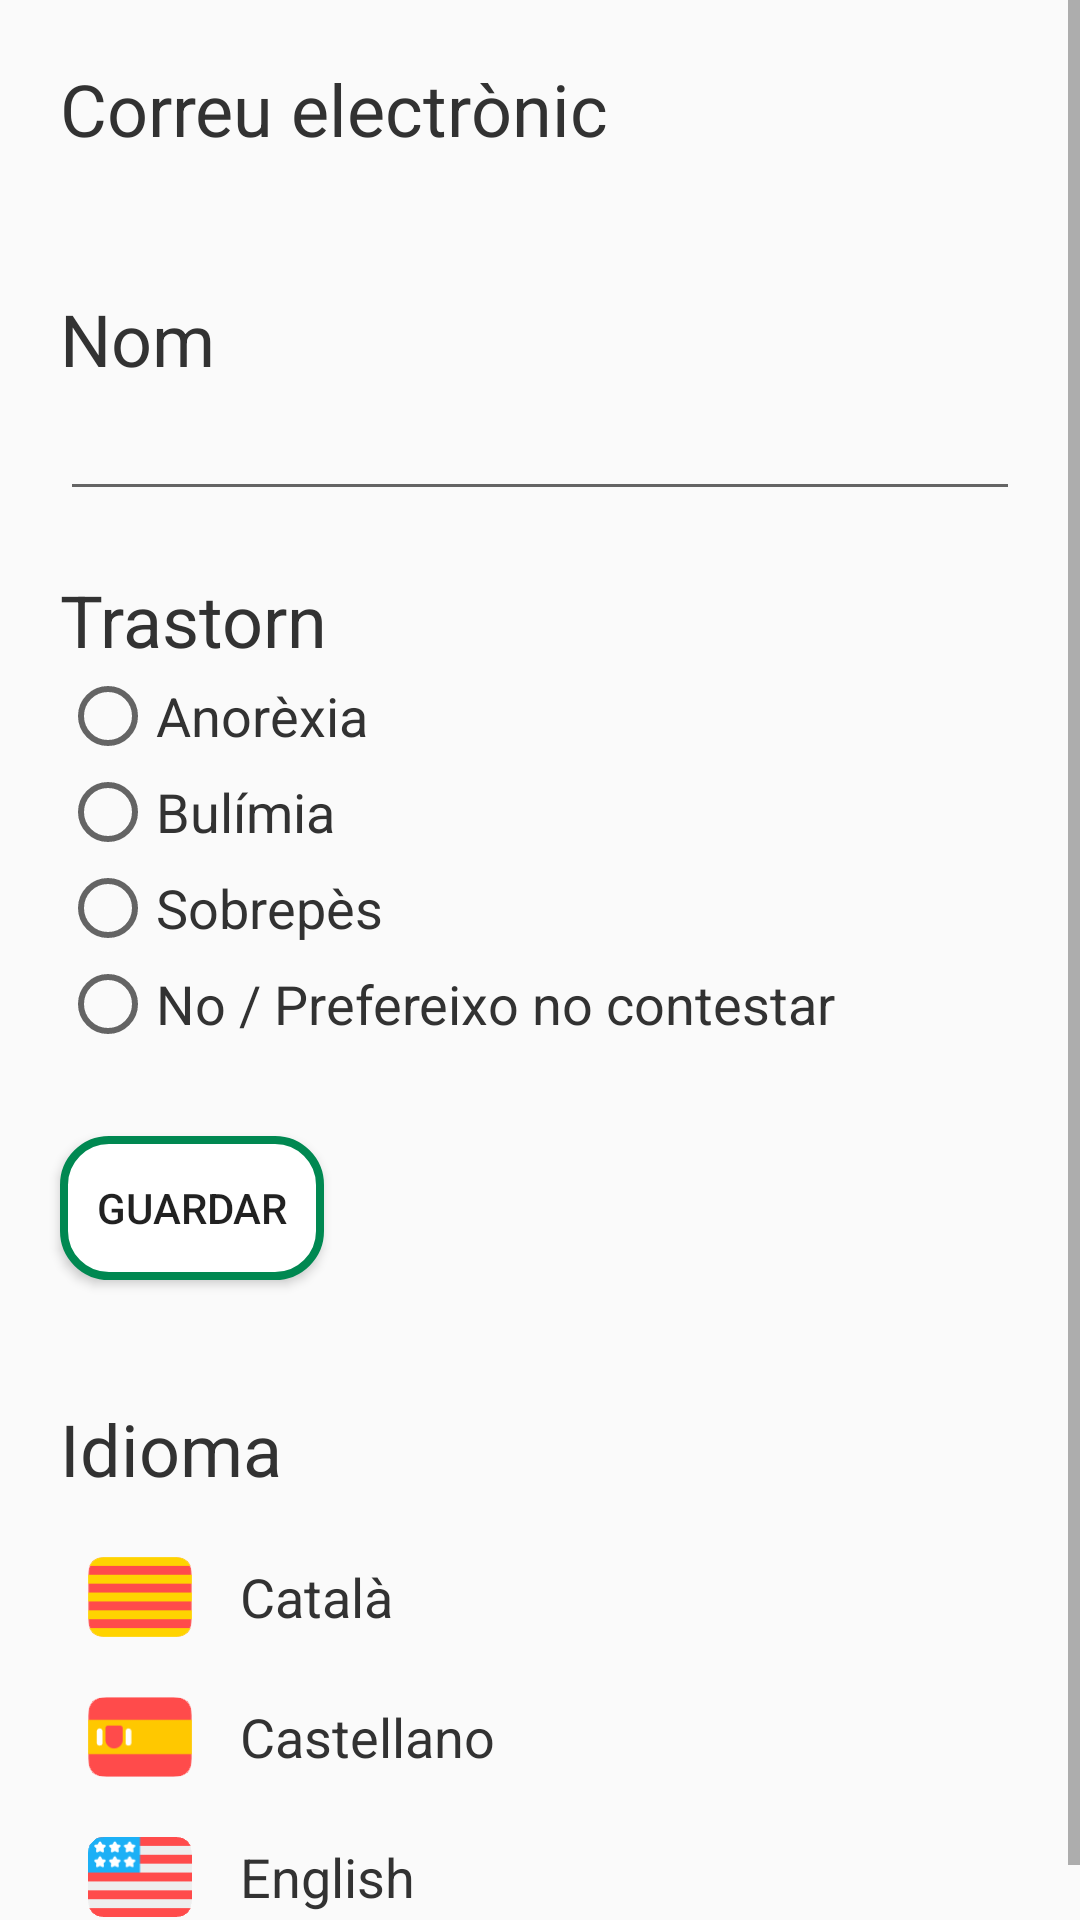

Icon bounding boxes for this 1080x1920 phone screenshot, format (x1, y1, x2, y2):
catalan: (88, 1557, 192, 1637)
ingles: (88, 1837, 192, 1917)
